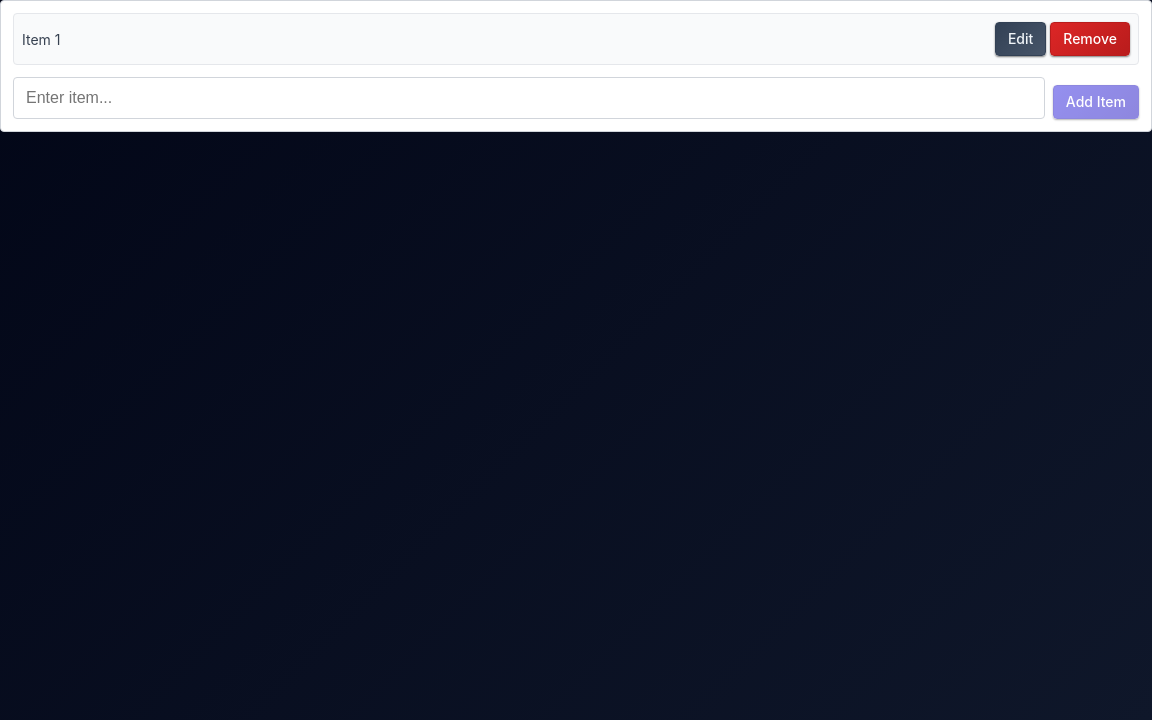
it: ArrayEditor › allows canceling edit
The image size is (1152, 720).
Click the button "Edit" at (1021, 39), box [995,22,1046,56]
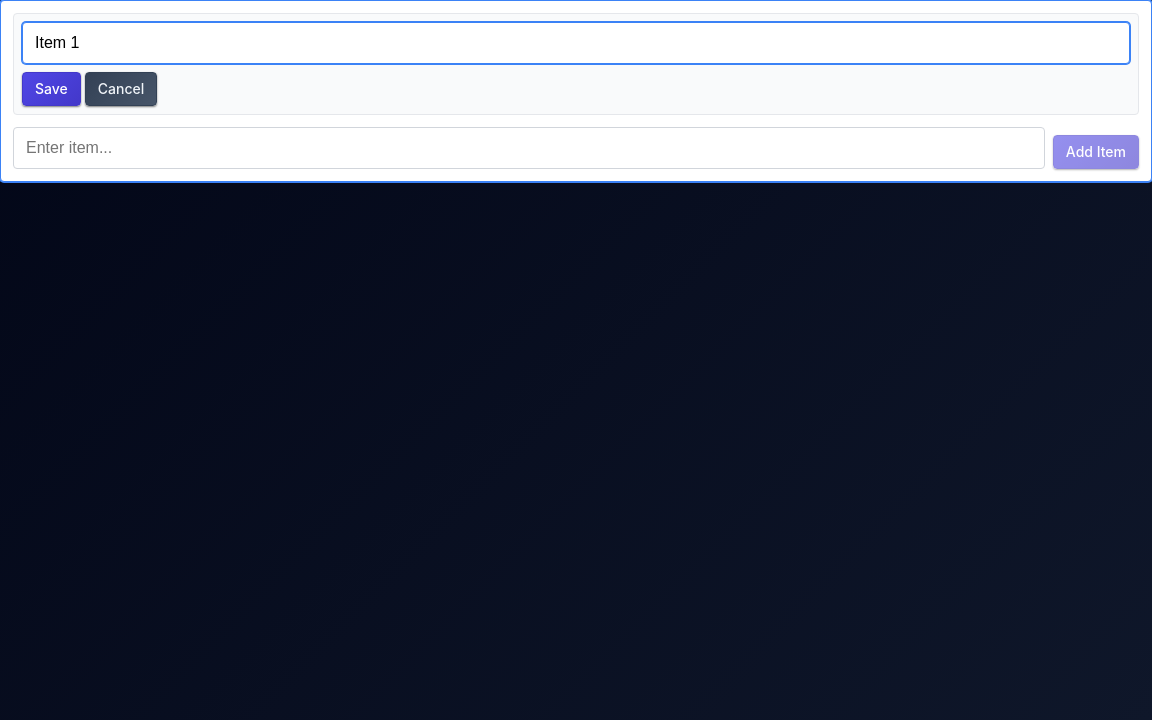
Replace the text in the field showing "Item 1" with "Updated Item" at (576, 43), box [22,22,1130,64]
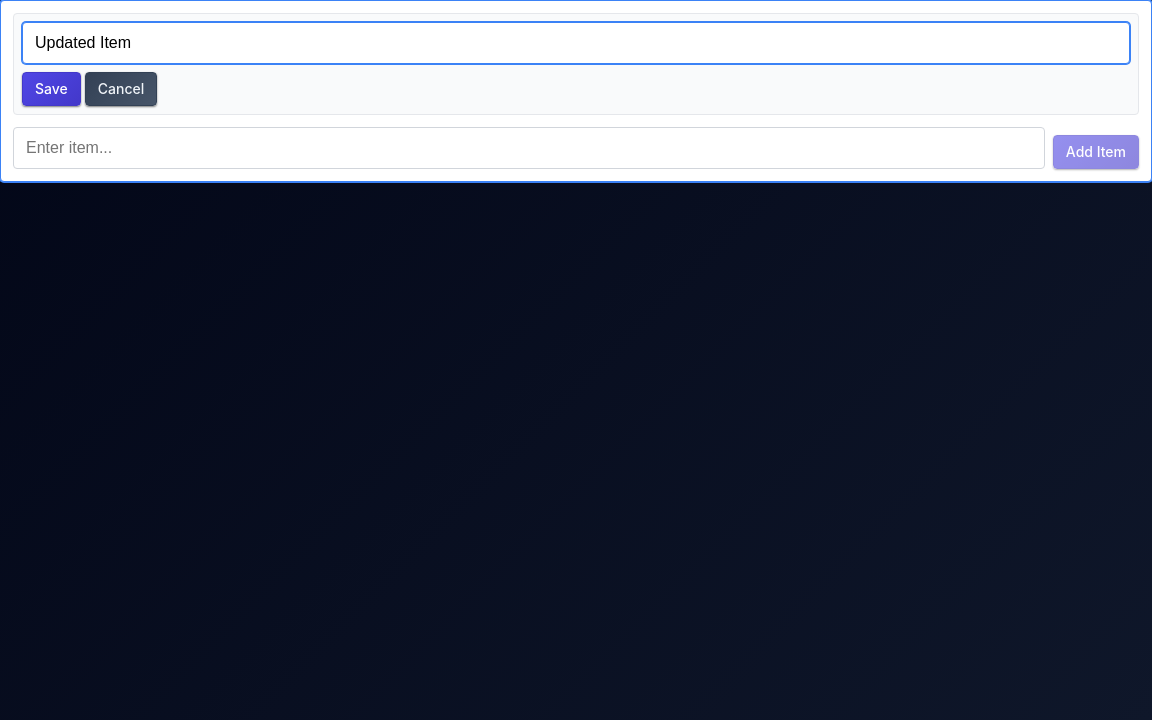
Click the button "Cancel" at (121, 89), box [85,72,157,106]
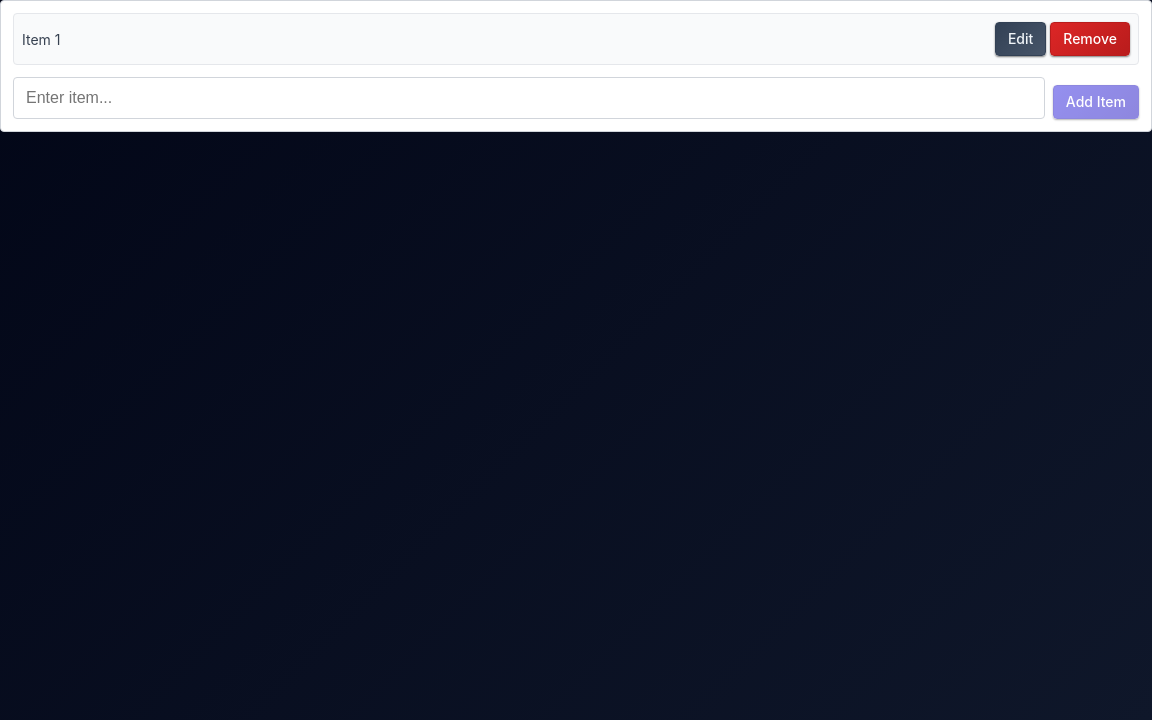
Expected: the text "Item 1" is shown, [22,30,60,48]
